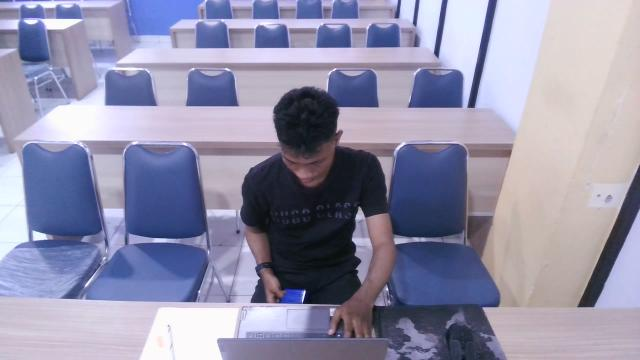Head_Down_Extreme: (229, 73, 412, 355)
Mobile_Phone: (276, 280, 310, 303)
